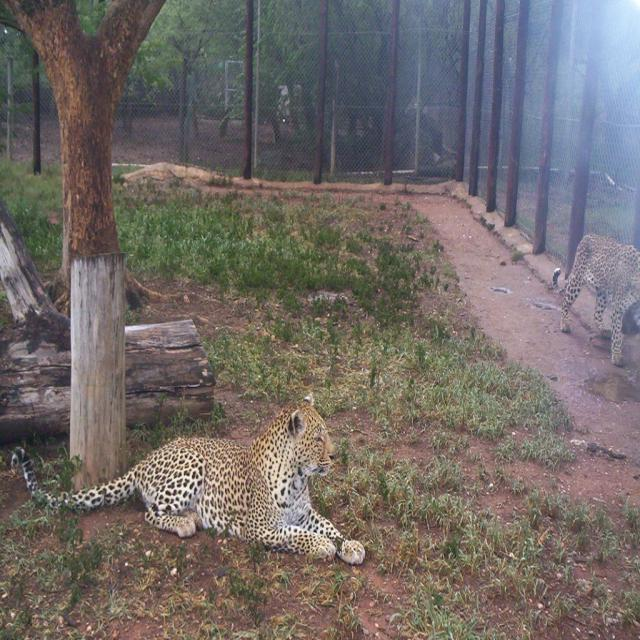Cheetah: (11, 393, 365, 565), (553, 234, 640, 365)
